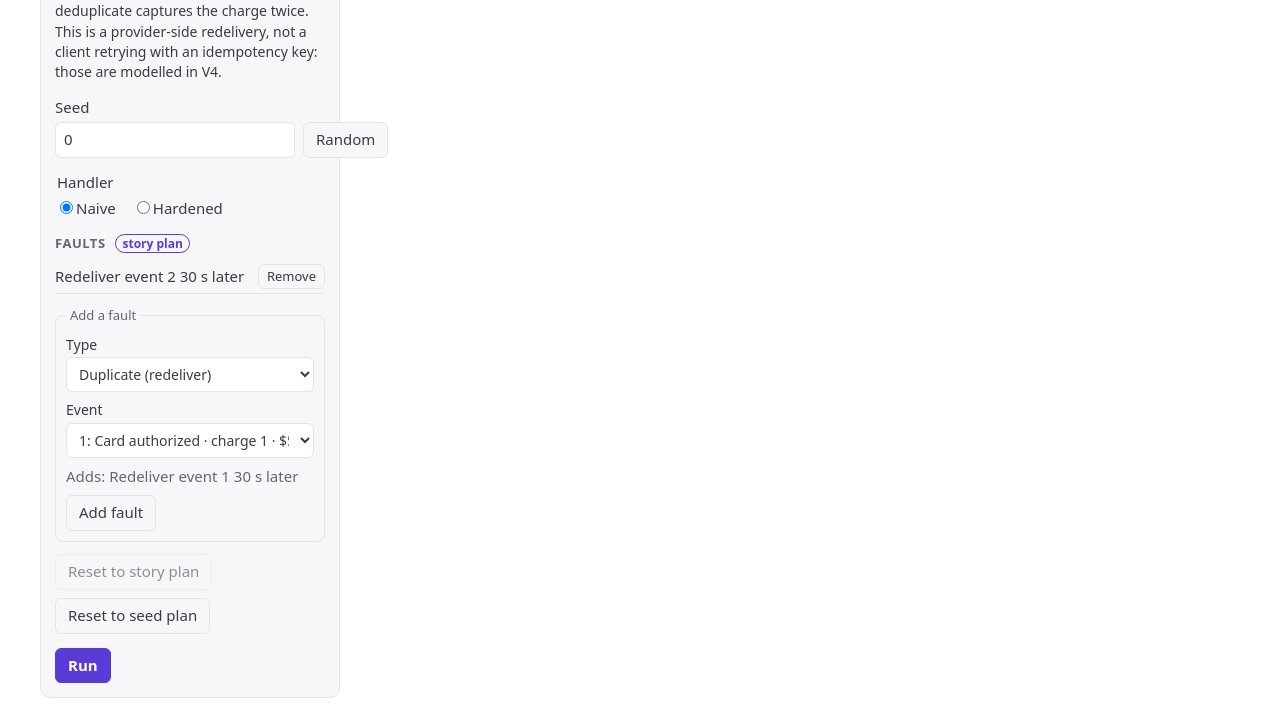
it: errors › sim-api's timeout gets the banner's own words
(page scrolled)
Click the button "Run" at (83, 666), box [55,648,111,684]
(page scrolled)
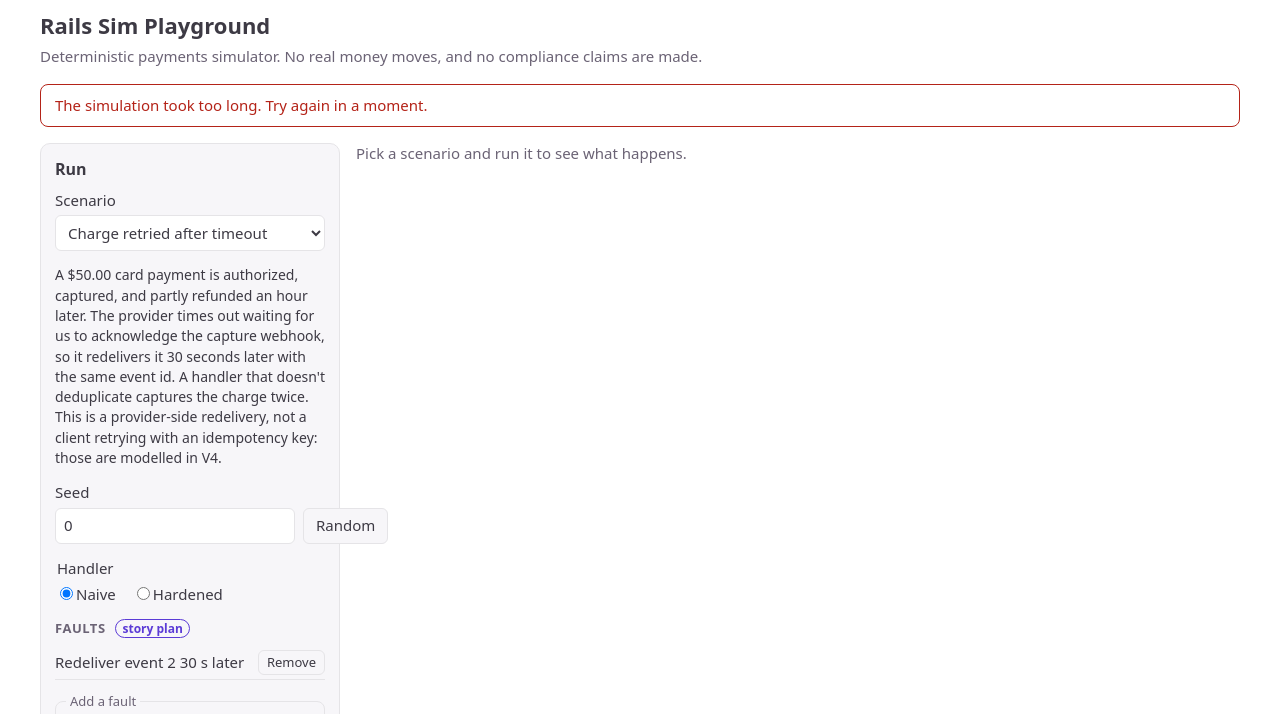
Check: the message reads "The simulation took too long. Try again in a moment.", box [55,95,428,115]
